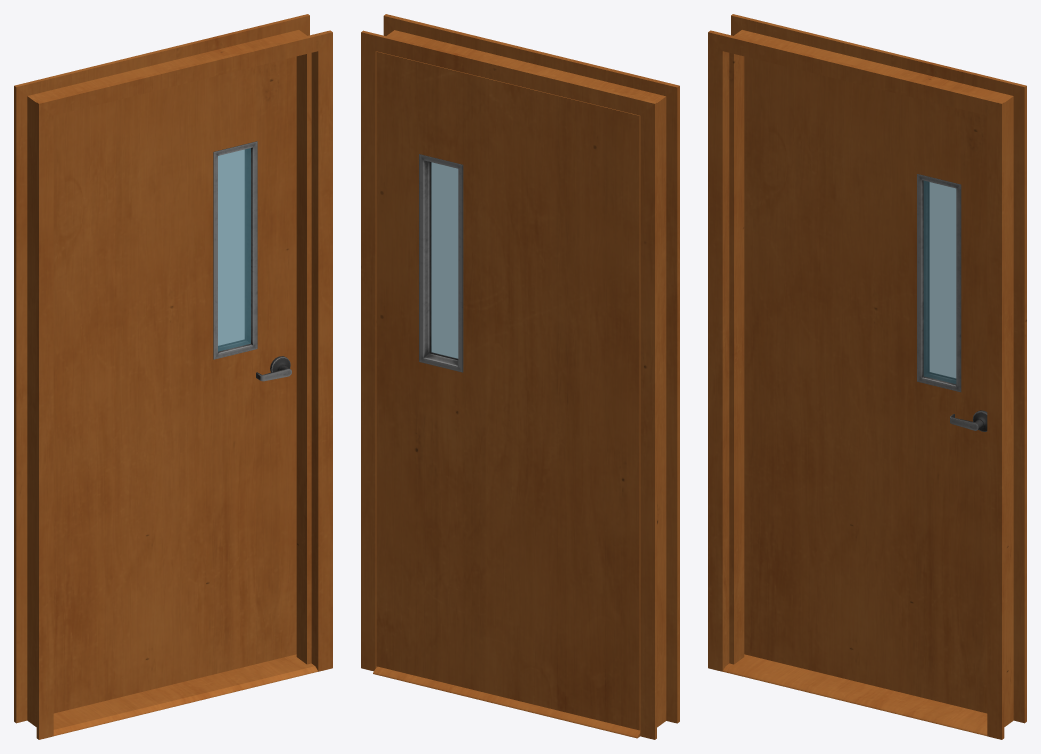
File: SingleDoor.fbx
The picture shows the model from 3 angles, left to right: view 1: azimuth 30°, elevation 25°; view 2: azimuth 150°, elevation 25°; view 3: azimuth 330°, elevation 25°; orthographic projection.
Parts seen in each view (by area): view 1: SingleDoor; view 2: SingleDoor; view 3: SingleDoor.
Part boxes in pixels (<box>): SingleDoor: <box>14,14,332,739</box>; SingleDoor: <box>361,14,679,739</box>; SingleDoor: <box>708,14,1026,739</box>.
Size of the model in its own units: 115 by 237 by 18.78.
